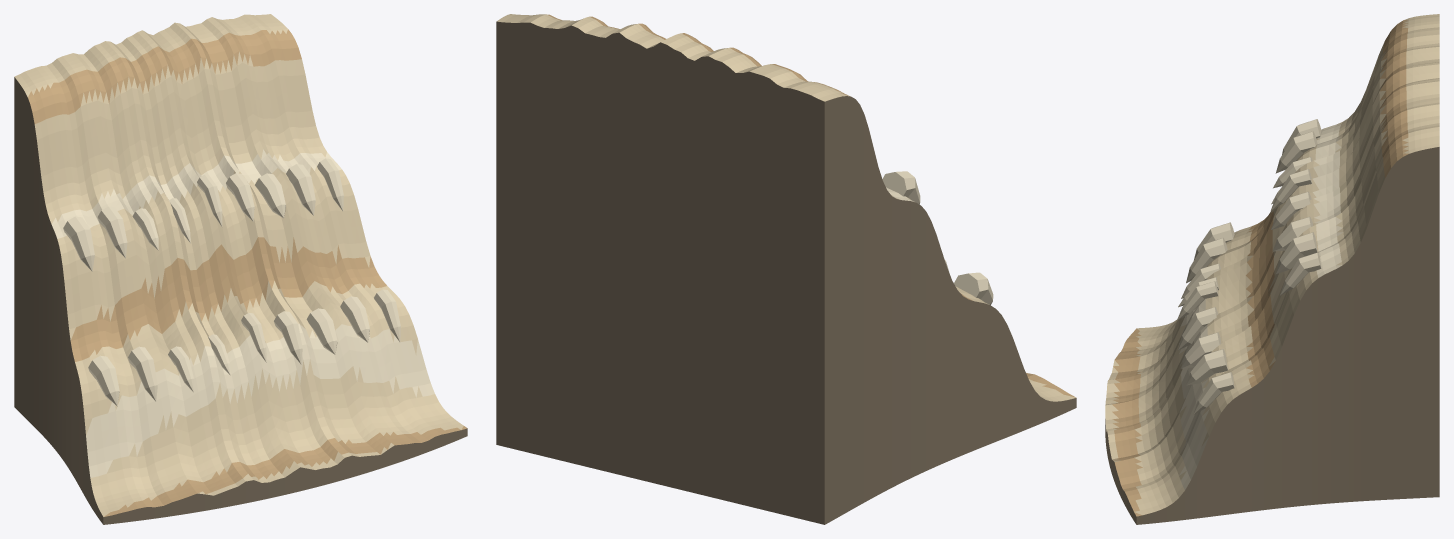
3 renders of one model, left to right at view 1: azimuth 30°, elevation 25°; view 2: azimuth 150°, elevation 25°; view 3: azimuth 270°, elevation 25°, orthographic. The views are drawn at different scales.
Visible parts, largest first — view 1: connected_calcite_sheet_over_host_volume, eighteen_rounded_lip_tongues; view 2: connected_calcite_sheet_over_host_volume, eighteen_rounded_lip_tongues; view 3: connected_calcite_sheet_over_host_volume, eighteen_rounded_lip_tongues.
Boxes of the visible parts, x1=… form: connected_calcite_sheet_over_host_volume: x1=14, y1=14, x2=467, y2=524; eighteen_rounded_lip_tongues: x1=63, y1=158, x2=400, y2=406; connected_calcite_sheet_over_host_volume: x1=496, y1=14, x2=1076, y2=524; eighteen_rounded_lip_tongues: x1=881, y1=171, x2=993, y2=305; connected_calcite_sheet_over_host_volume: x1=1105, y1=14, x2=1439, y2=524; eighteen_rounded_lip_tongues: x1=1177, y1=119, x2=1321, y2=414.
Bounding box in the file's own units: 4 × 3.63 × 3.
